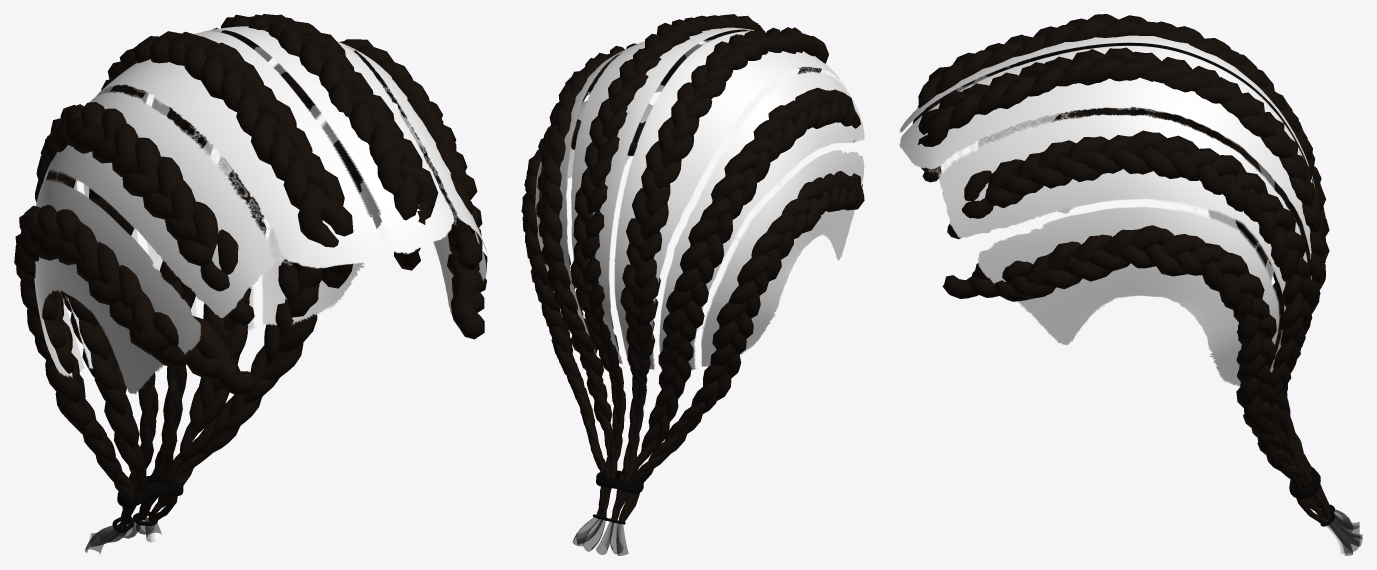
Rendered from braids2-transformed.glb.
3 views of the same model, side by side, from view 1: azimuth 30°, elevation 25°; view 2: azimuth 150°, elevation 25°; view 3: azimuth 270°, elevation 25° (orthographic). The views are drawn at different scales.
Visible parts, largest first — view 1: Braids Low Poly, Scalp.001; view 2: Braids Low Poly, Scalp.001; view 3: Braids Low Poly, Scalp.001.
Boxes of the visible parts, x1=… form: Braids Low Poly: x1=14, y1=14, x2=487, y2=554; Scalp.001: x1=34, y1=26, x2=487, y2=393; Braids Low Poly: x1=521, y1=14, x2=864, y2=555; Scalp.001: x1=535, y1=27, x2=864, y2=370; Braids Low Poly: x1=913, y1=14, x2=1362, y2=555; Scalp.001: x1=899, y1=35, x2=1315, y2=386.
Bounding box in the file's own units: 0.6798 × 1.03 × 0.8553.
4 materials, 3 textured.
